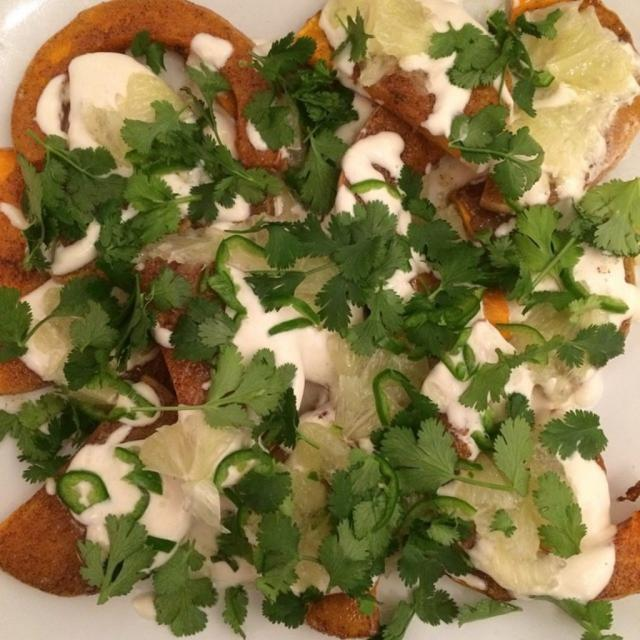Salad: (0, 11, 629, 640)
